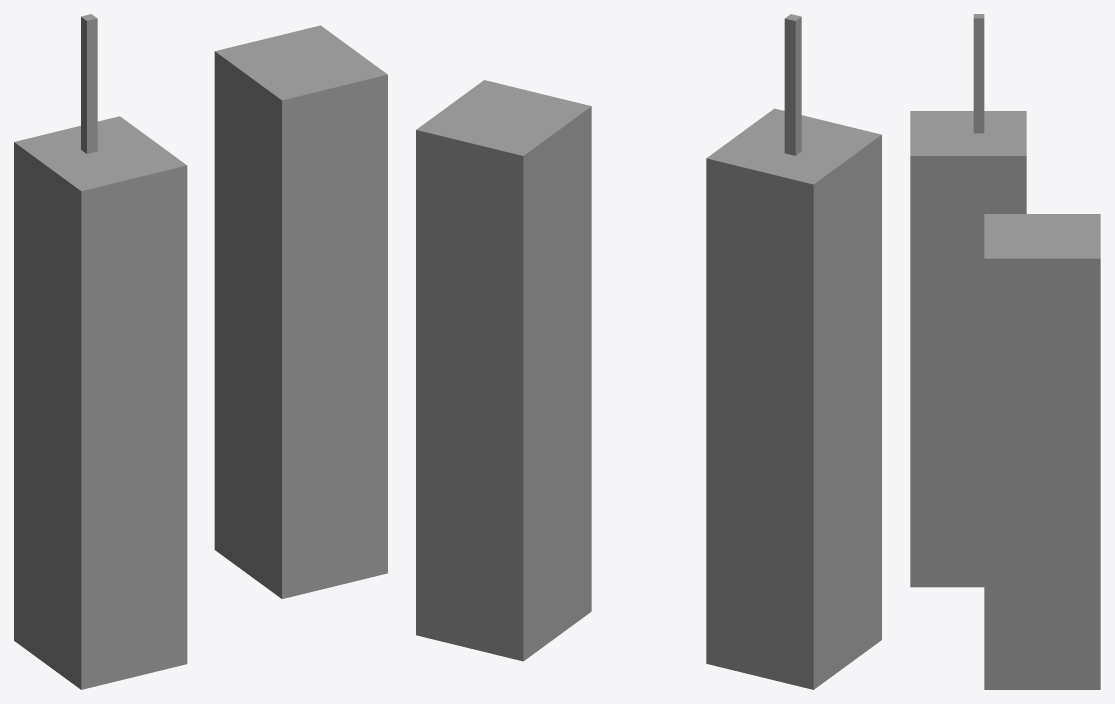
3 renders of one model, left to right at view 1: azimuth 30°, elevation 25°; view 2: azimuth 150°, elevation 25°; view 3: azimuth 270°, elevation 25°, orthographic. The views are drawn at different scales.
Visible parts, largest first — view 1: cube (×3); view 2: cube (×3); view 3: cube (×3).
Part boxes in pixels (x1,y1,x2,y2): cube (×3): [14, 14, 387, 689]; cube (×3): [416, 14, 881, 689]; cube (×3): [910, 14, 1100, 689].
Size of the model in its own units: 2.06 by 3.56 by 1.12.
Materials: 3 (3 with a texture image).
